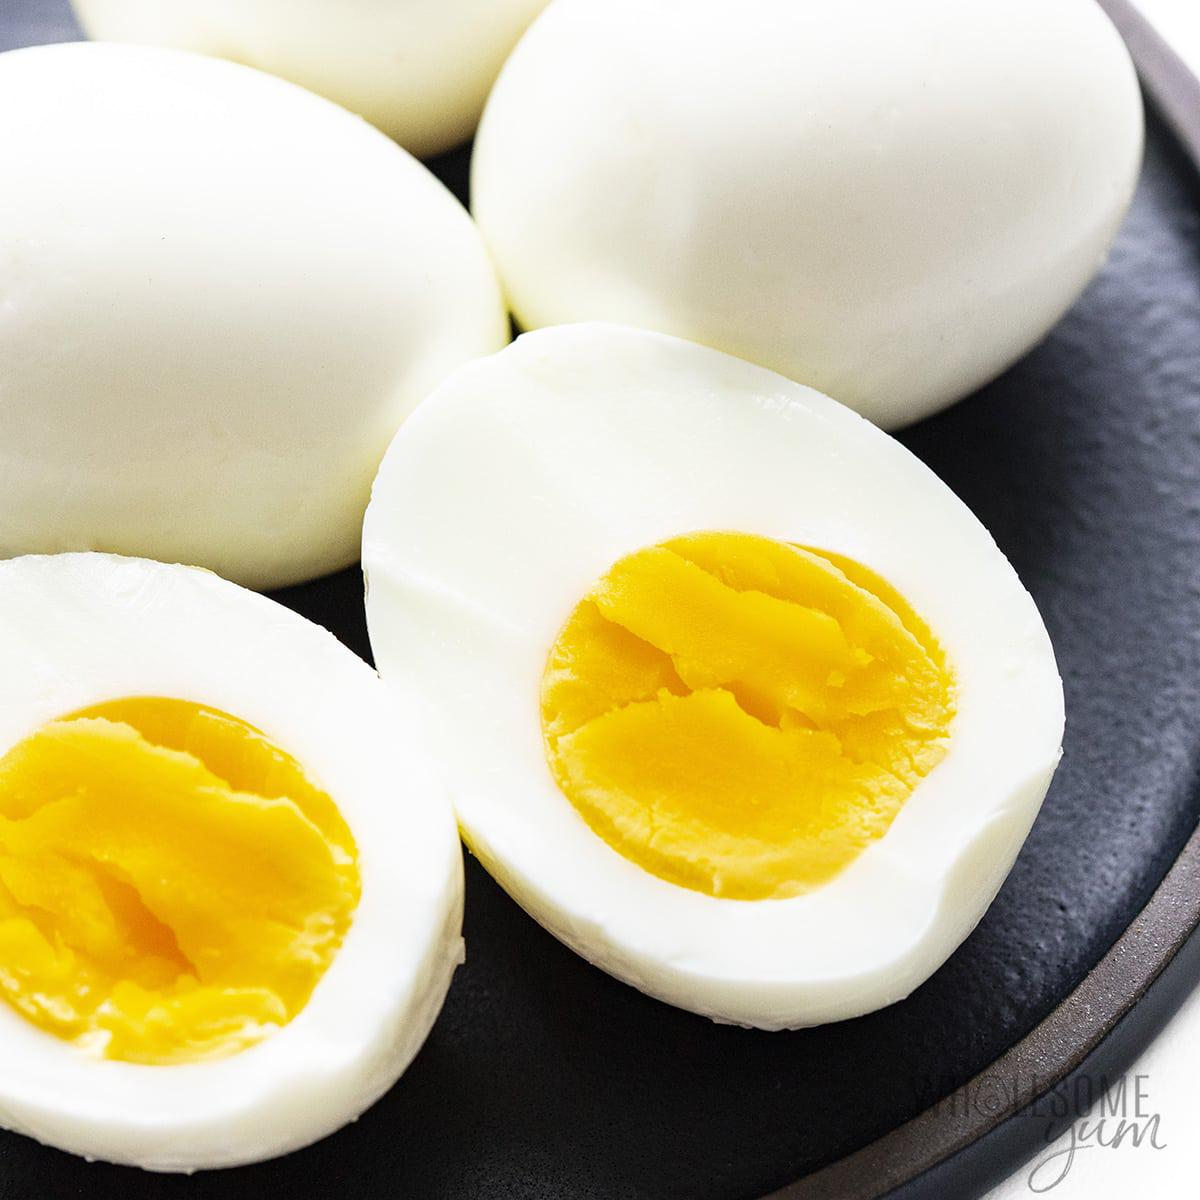egg: (465, 0, 1147, 433), (2, 43, 509, 600)
